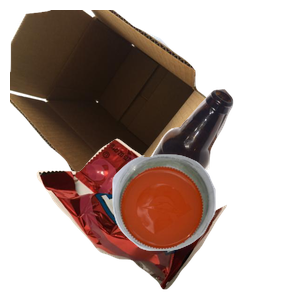cardboard: (10, 10, 218, 190)
glass: (130, 87, 300, 267)
plastic: (110, 152, 300, 300)
trash: (34, 136, 253, 300)
